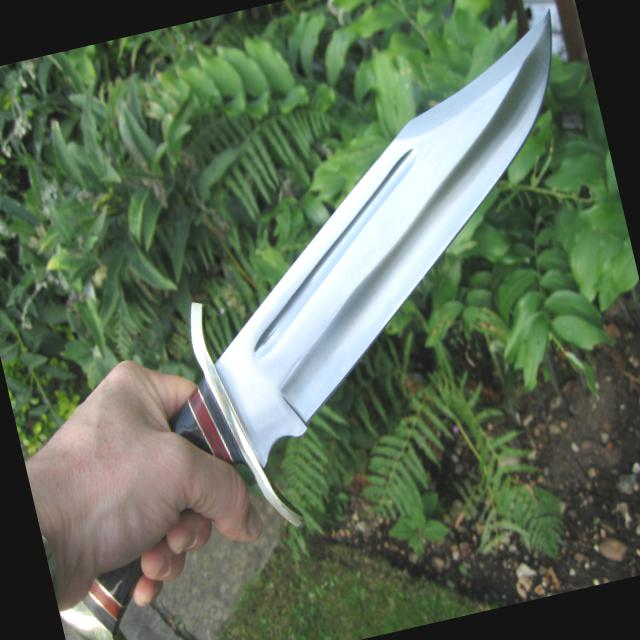knife: (53, 0, 639, 571)
